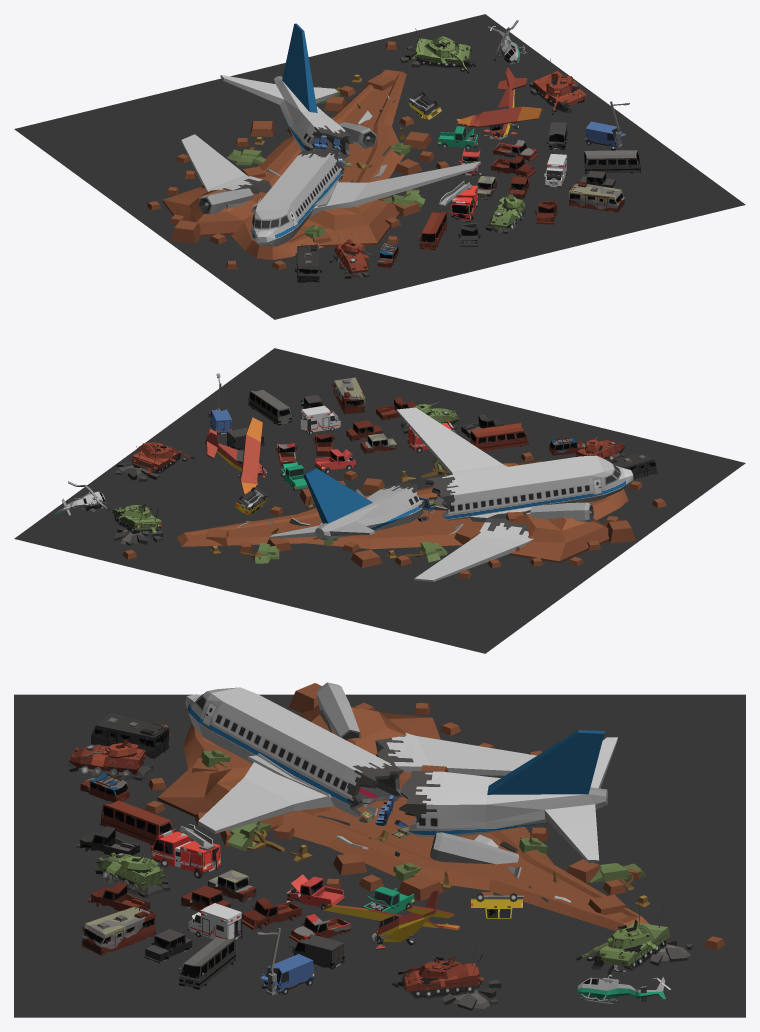
The model's file is simple-apocalypse-damaged-vehicles.fbx.
The picture shows the model from 3 angles, top to bottom: view 1: azimuth 30°, elevation 25°; view 2: azimuth 150°, elevation 25°; view 3: azimuth 270°, elevation 25°; orthographic projection. The views are drawn at different scales.
Visible parts, largest first — view 1: polySurface9884_lambert1_0, polySurface9715_lambert2_0, polySurface9690_lambert2_0, polySurface9693_lambert2_0, polySurface9778_lambert2_0, polySurface9691_lambert2_0, polySurface9785_lambert2_0, polySurface9821_lambert2_0, polySurface9444_lambert2_0, polySurface9531_lambert2_0, polySurface9692_lambert2_0, polySurface9459_lambert2_0 (+9 smaller); view 2: polySurface9884_lambert1_0, polySurface9715_lambert2_0, polySurface9690_lambert2_0, polySurface9693_lambert2_0, polySurface9785_lambert2_0, polySurface9691_lambert2_0, polySurface9821_lambert2_0, polySurface9497_lambert2_0, polySurface9692_lambert2_0, polySurface9444_lambert2_0, polySurface9531_lambert2_0, polySurface9247_lambert2_0 (+5 smaller); view 3: polySurface9884_lambert1_0, polySurface9715_lambert2_0, polySurface9693_lambert2_0, polySurface9690_lambert2_0, polySurface9691_lambert2_0, polySurface9778_lambert2_0, polySurface9785_lambert2_0, polySurface9531_lambert2_0, polySurface9821_lambert2_0, polySurface9459_lambert2_0, polySurface9678_lambert2_0, polySurface9497_lambert2_0 (+26 smaller).
Part boxes in pixels (x1,y1,x2,y2): polySurface9884_lambert1_0: [14, 14, 745, 319]; polySurface9715_lambert2_0: [251, 147, 480, 246]; polySurface9690_lambert2_0: [231, 69, 406, 260]; polySurface9693_lambert2_0: [220, 23, 353, 159]; polySurface9778_lambert2_0: [303, 199, 399, 246]; polySurface9691_lambert2_0: [181, 134, 271, 194]; polySurface9785_lambert2_0: [163, 186, 260, 236]; polySurface9821_lambert2_0: [456, 67, 542, 137]; polySurface9444_lambert2_0: [584, 150, 640, 173]; polySurface9531_lambert2_0: [568, 182, 624, 212]; polySurface9692_lambert2_0: [199, 188, 253, 213]; polySurface9459_lambert2_0: [297, 245, 319, 282]; polySurface9884_lambert1_0: [14, 348, 745, 653]; polySurface9715_lambert2_0: [396, 407, 633, 522]; polySurface9690_lambert2_0: [177, 487, 628, 549]; polySurface9693_lambert2_0: [269, 468, 425, 539]; polySurface9785_lambert2_0: [508, 514, 609, 562]; polySurface9691_lambert2_0: [414, 518, 533, 581]; polySurface9821_lambert2_0: [205, 417, 263, 494]; polySurface9497_lambert2_0: [470, 423, 528, 450]; polySurface9692_lambert2_0: [530, 502, 593, 521]; polySurface9444_lambert2_0: [248, 389, 291, 425]; polySurface9531_lambert2_0: [333, 377, 365, 414]; polySurface9247_lambert2_0: [301, 405, 341, 432]; polySurface9884_lambert1_0: [14, 694, 745, 1017]; polySurface9715_lambert2_0: [185, 687, 404, 833]; polySurface9693_lambert2_0: [399, 730, 617, 862]; polySurface9690_lambert2_0: [183, 723, 649, 931]; polySurface9691_lambert2_0: [375, 732, 536, 775]; polySurface9778_lambert2_0: [157, 766, 330, 831]; polySurface9785_lambert2_0: [300, 705, 440, 755]; polySurface9531_lambert2_0: [81, 906, 155, 955]; polySurface9821_lambert2_0: [322, 890, 460, 941]; polySurface9459_lambert2_0: [91, 712, 169, 758]; polySurface9678_lambert2_0: [430, 832, 518, 864]; polySurface9497_lambert2_0: [100, 800, 172, 845].
Bounding box in the file's own units: 9150 × 1756 × 8764.
Materials: 2 (1 with a texture image).
